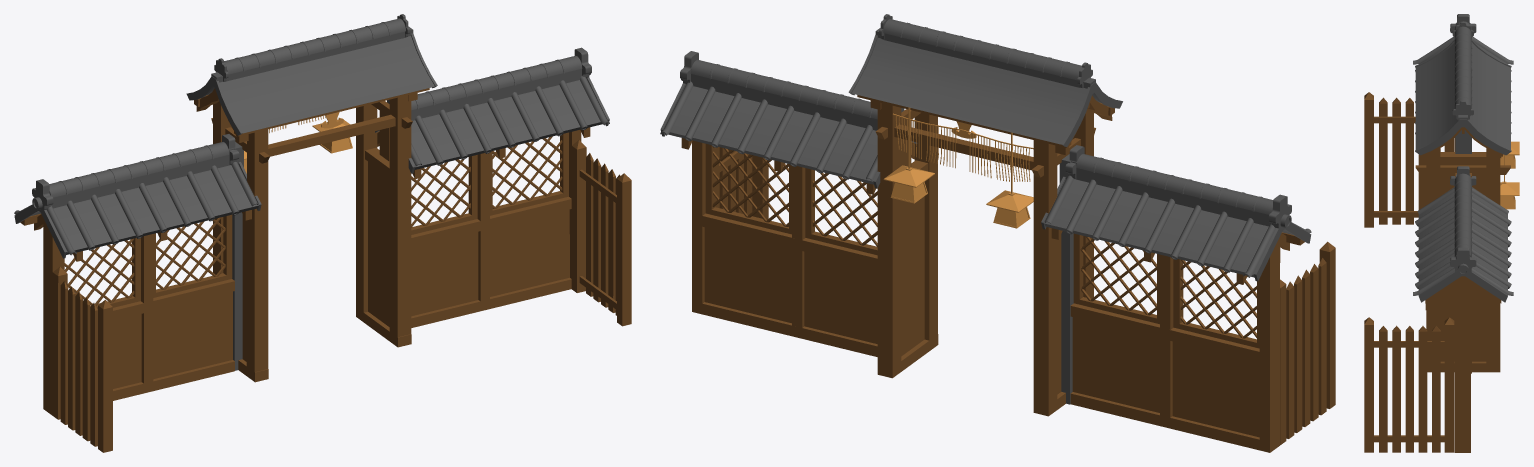
Rendered from mesh_house5.fbx.
3 views of the same model, side by side, from view 1: azimuth 30°, elevation 25°; view 2: azimuth 150°, elevation 25°; view 3: azimuth 270°, elevation 25° (orthographic). The views are drawn at different scales.
Parts seen in each view (by area): view 1: entrance_02_wood, entrance_02_roof, entrance_02_add; view 2: entrance_02_wood, entrance_02_roof, entrance_02_add; view 3: entrance_02_wood, entrance_02_roof, entrance_02_add.
Boxes of the visible parts, x1,y1,x2,y2 form: entrance_02_wood: (20,88,631,452); entrance_02_roof: (14,14,609,370); entrance_02_add: (244,111,352,173); entrance_02_wood: (681,95,1335,452); entrance_02_roof: (660,14,1311,404); entrance_02_add: (883,107,1033,228); entrance_02_wood: (1364,92,1510,452); entrance_02_roof: (1413,14,1513,302); entrance_02_add: (1500,141,1519,209).
Bounding box in the file's own units: 6.78 × 3.64 × 1.86.
